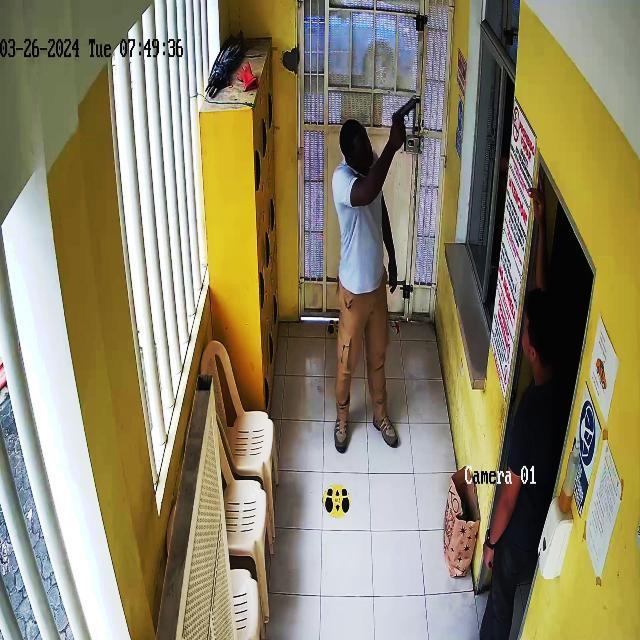Gun: (382, 80, 428, 137)
